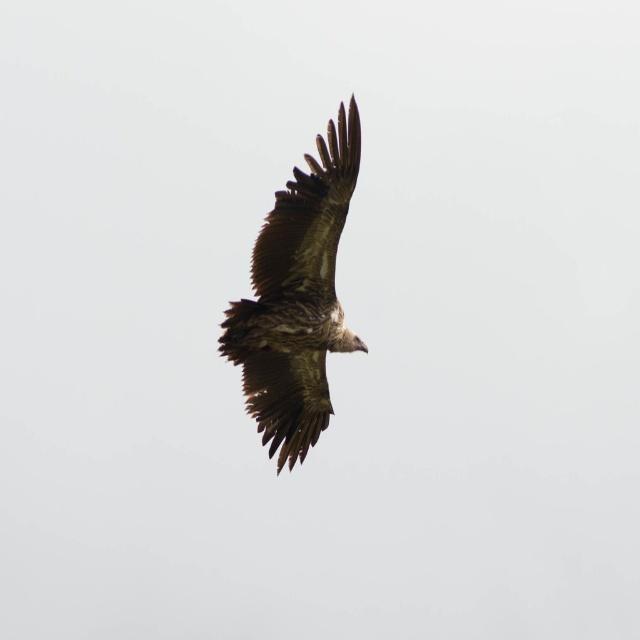Eagle: (214, 86, 371, 480)
